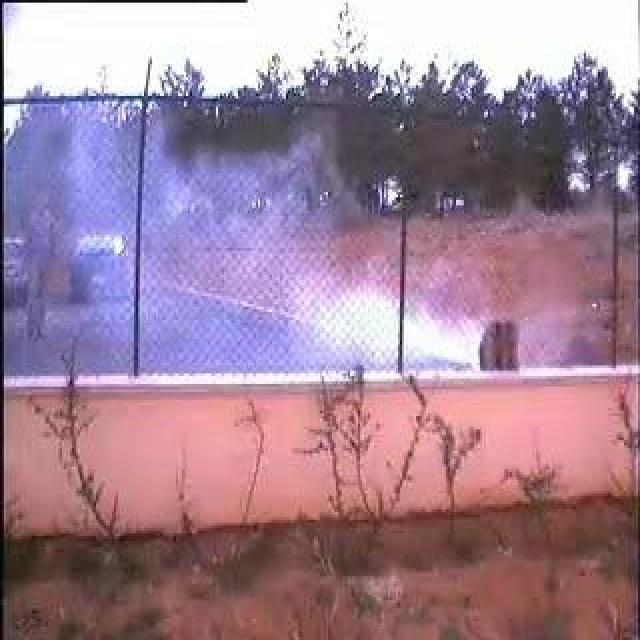Smoke: (145, 170, 479, 370)
